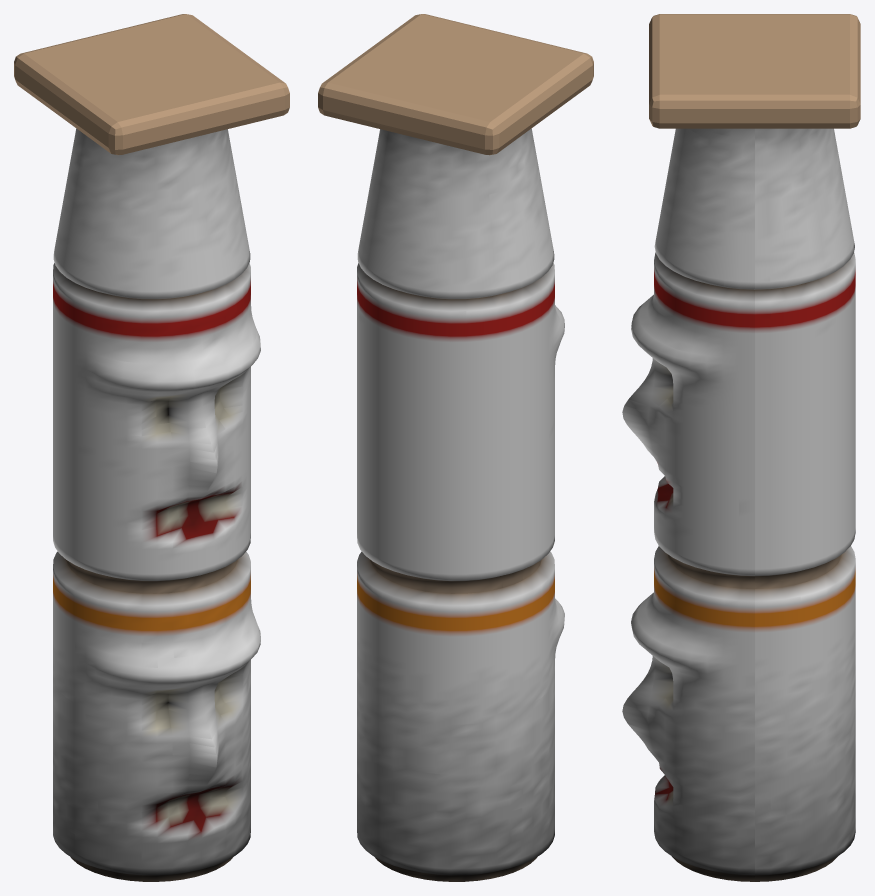
The model's file is HeroTikiPole_1.fbx.
3 views of the same model, side by side, from view 1: azimuth 30°, elevation 25°; view 2: azimuth 150°, elevation 25°; view 3: azimuth 270°, elevation 25° (orthographic).
Visible parts, largest first — view 1: HeroTikiPole_1__Totem; view 2: HeroTikiPole_1__Totem; view 3: HeroTikiPole_1__Totem.
Boxes of the visible parts, <box> form: HeroTikiPole_1__Totem: <box>14,14,289,881</box>; HeroTikiPole_1__Totem: <box>318,14,593,881</box>; HeroTikiPole_1__Totem: <box>622,14,860,881</box>.
Size of the model in its own units: 0.399 by 1.64 by 0.4495.
